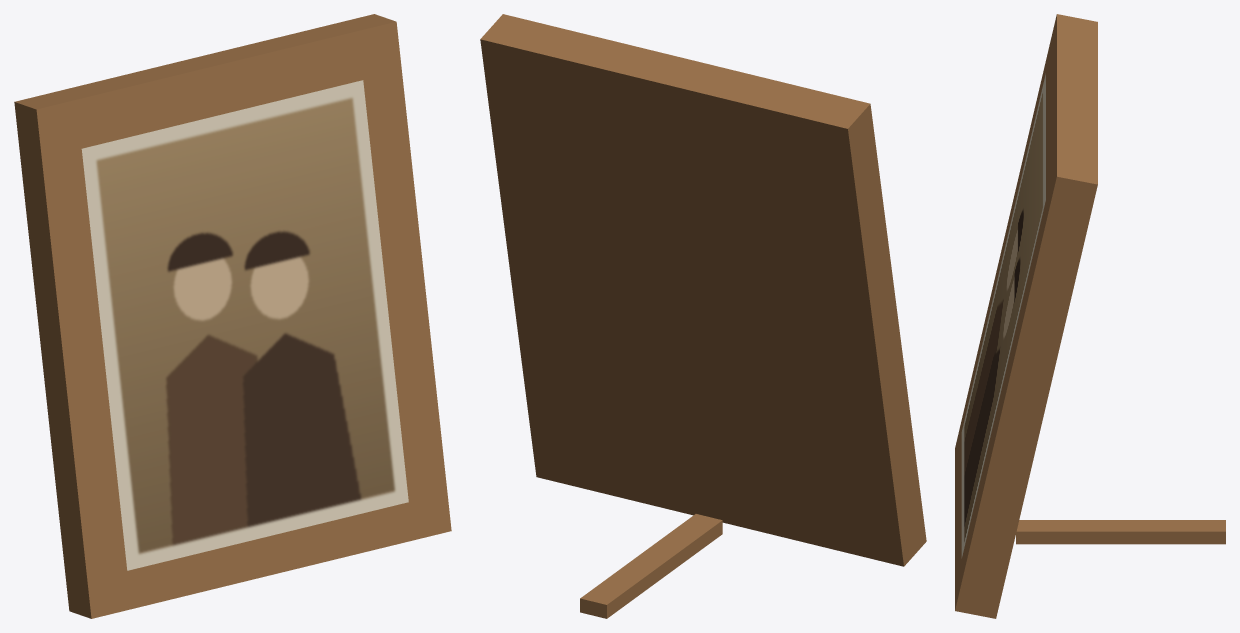
The model's file is shelf_frame.glb.
3 renders of one model, left to right at view 1: azimuth 30°, elevation 25°; view 2: azimuth 150°, elevation 25°; view 3: azimuth 270°, elevation 25°, orthographic. The views are drawn at different scales.
Visible parts, largest first — view 1: shelf_frame; view 2: shelf_frame; view 3: shelf_frame.
Boxes of the visible parts, <box> form: shelf_frame: <box>14,14,451,618</box>; shelf_frame: <box>480,14,926,618</box>; shelf_frame: <box>955,14,1225,618</box>.
Bounding box in the file's own units: 0.11 × 0.1397 × 0.0774.
2 materials, 1 textured.
